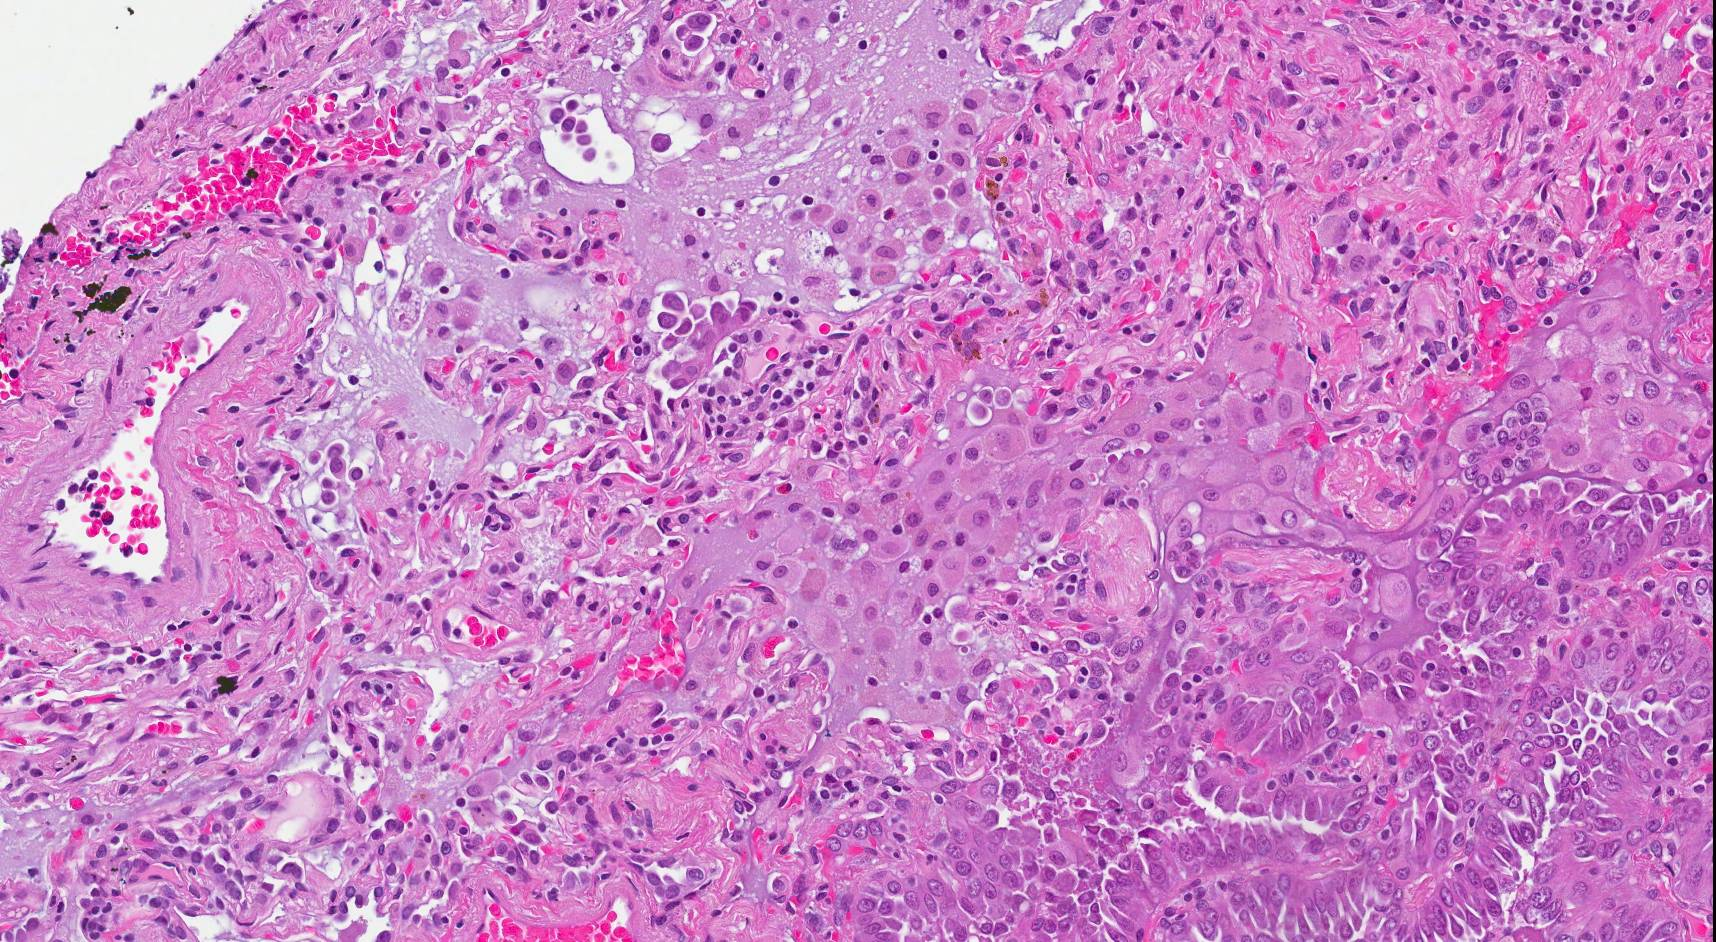stas: (651, 284, 756, 391), (672, 6, 716, 62)
